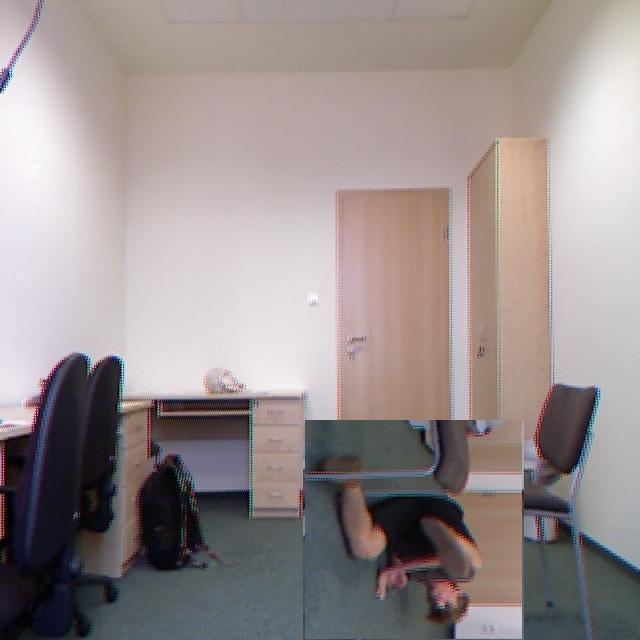Fall: (270, 414, 485, 640)
